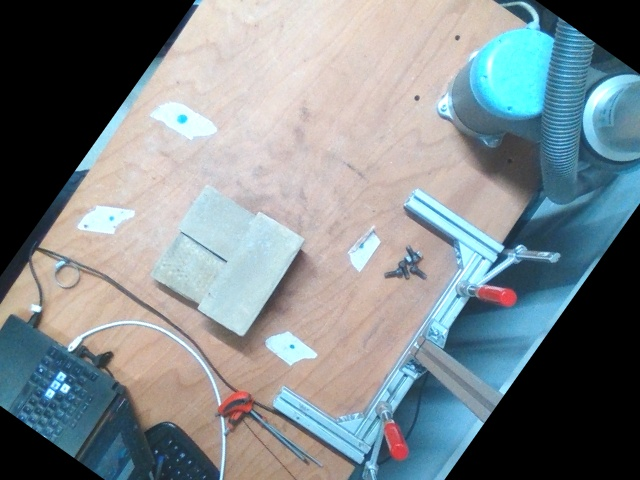brick: (196, 210, 303, 335)
